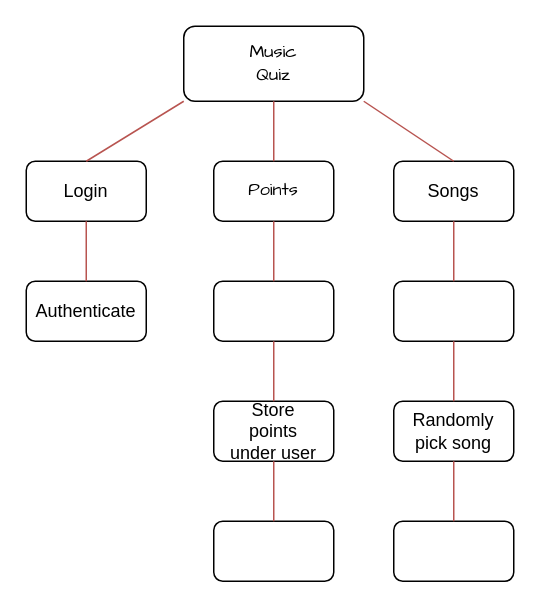
This 540x609 diagram has some shape labels left out. Each missing label, with the centre of its shape:
Display artist and first char: the point at 453,550
Display top 5 users: the point at 273,550
Give user 1 point if correct: the point at 273,310
Store list of songs: the point at 453,310
